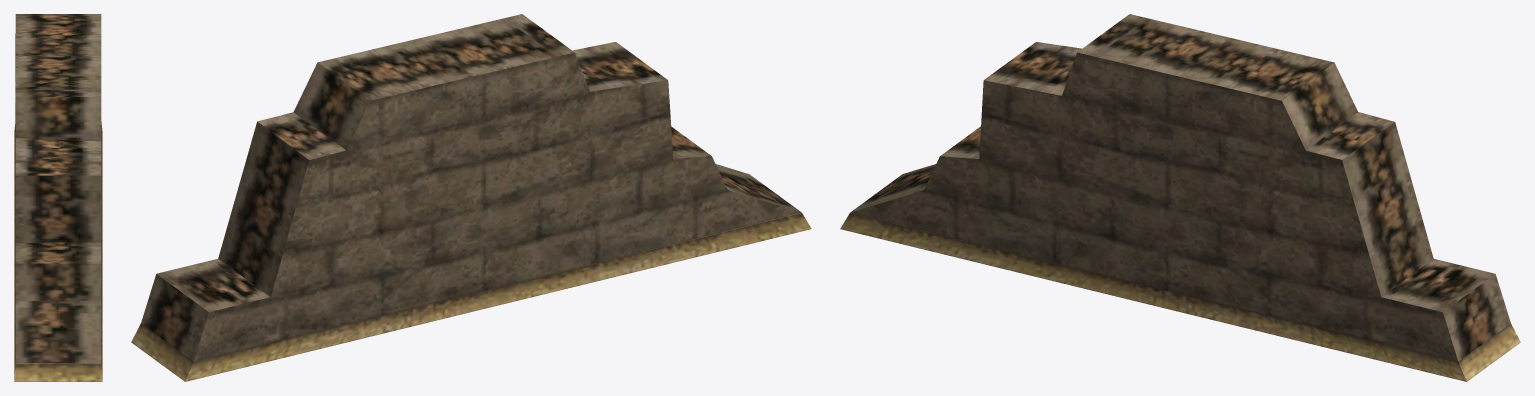
The model's file is M4_Wall_Ruins2.glb.
3 renders of one model, left to right at view 1: azimuth 30°, elevation 25°; view 2: azimuth 150°, elevation 25°; view 3: azimuth 270°, elevation 25°, orthographic. The views are drawn at different scales.
Parts seen in each view (by area): view 1: M4_WALL_RUINS2; view 2: M4_WALL_RUINS2; view 3: M4_WALL_RUINS2.
Boxes of the visible parts, bbox=[...] form: M4_WALL_RUINS2: bbox=[14, 14, 102, 381]; M4_WALL_RUINS2: bbox=[131, 14, 811, 381]; M4_WALL_RUINS2: bbox=[840, 14, 1520, 381].
Bounding box in the file's own units: 2.1 × 1.2 × 3.14.
Materials: 3 (3 with a texture image).
